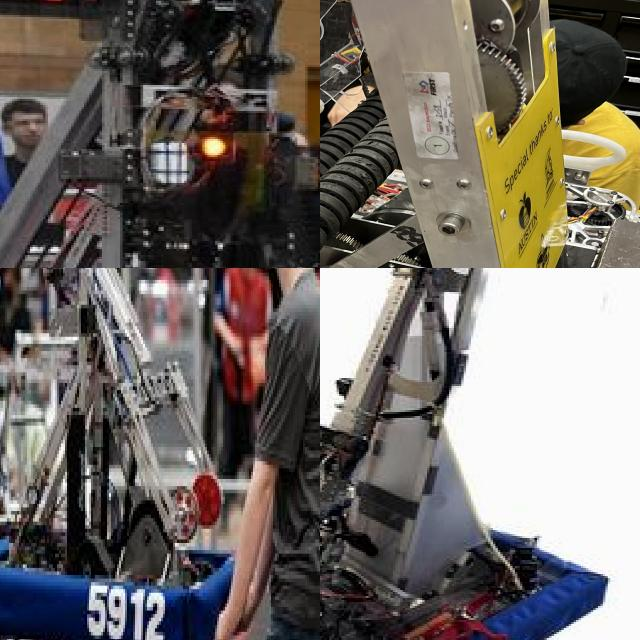FRC-Robots: (0, 268, 320, 640), (320, 268, 623, 640), (0, 0, 320, 268), (320, 0, 640, 268)
